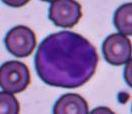M: (34, 31, 98, 88)
